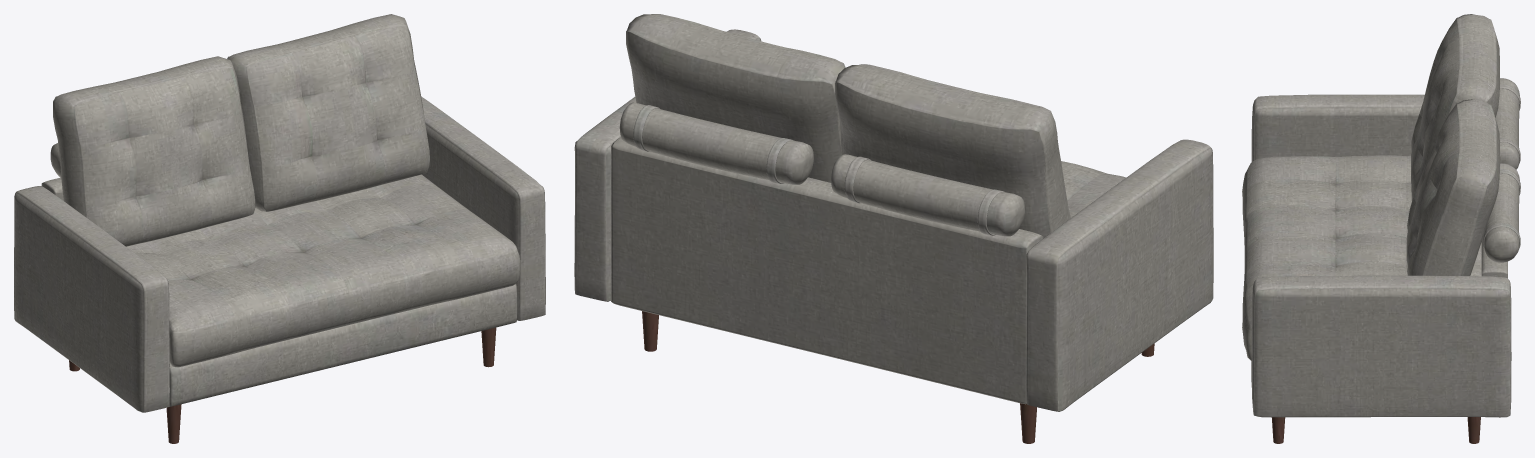
File: B072PZC1L3.glb
3 views of the same model, side by side, from view 1: azimuth 30°, elevation 25°; view 2: azimuth 150°, elevation 25°; view 3: azimuth 270°, elevation 25° (orthographic). The views are drawn at different scales.
Parts seen in each view (by area): view 1: RootNode; view 2: RootNode; view 3: RootNode.
Part boxes in pixels (x1,y1,x2,y2): RootNode: (14,14,545,443); RootNode: (574,14,1213,443); RootNode: (1242,14,1520,443).
Bounding box in the file's own units: 1.41 × 0.9071 × 0.8422.
Materials: 1 (1 with a texture image).
